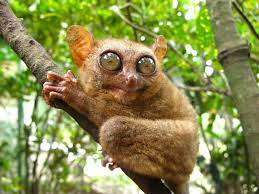tarsier: (43, 24, 204, 180)
